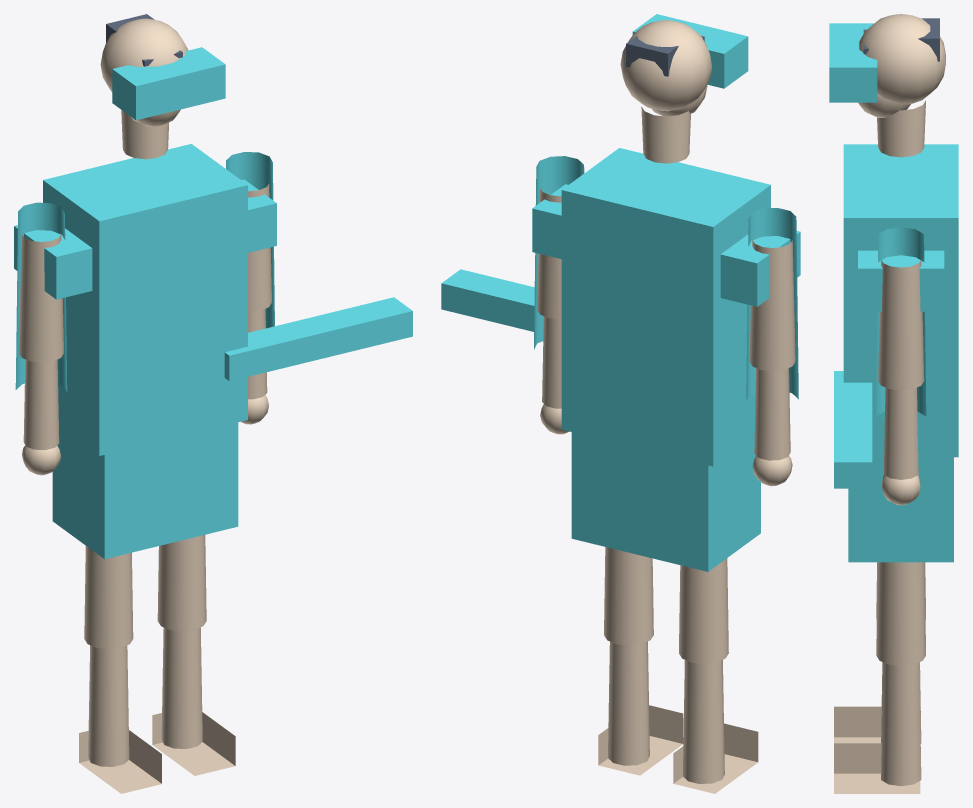
The model's file is body.glb.
3 renders of one model, left to right at view 1: azimuth 30°, elevation 25°; view 2: azimuth 150°, elevation 25°; view 3: azimuth 270°, elevation 25°, orthographic. The views are drawn at different scales.
Parts seen in each view (by area): view 1: Metal, Skin; view 2: Metal, Skin, Hair; view 3: Metal, Skin, Hair.
Part boxes in pixels (<box>): Metal: <box>14,47,412,559</box>; Skin: <box>19,18,271,793</box>; Metal: <box>441,14,800,571</box>; Skin: <box>537,20,795,793</box>; Hair: <box>626,36,704,76</box>; Metal: <box>829,23,958,562</box>; Skin: <box>834,14,945,793</box>; Hair: <box>863,18,939,61</box>.
Bounding box in the file's own units: 0.885 × 1.72 × 0.27.
